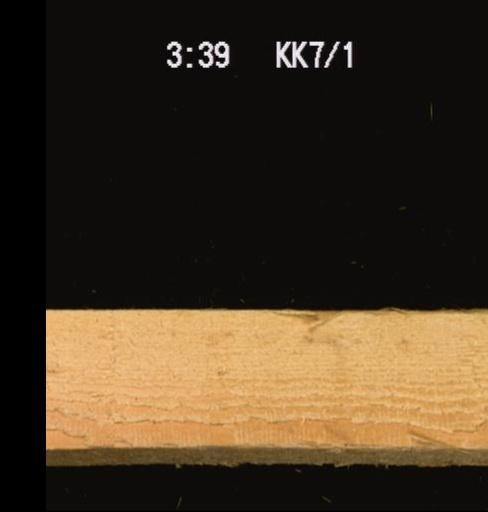split: (303, 308, 348, 331)
